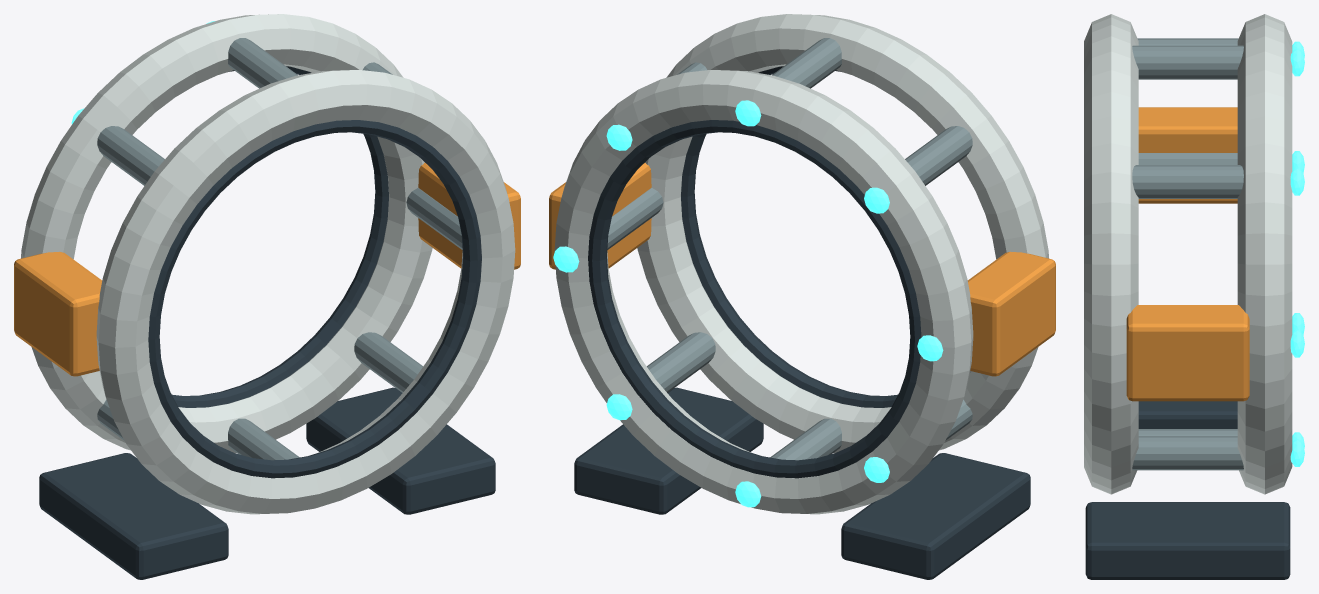
Rendered from docking_collar.glb.
The picture shows the model from 3 angles, left to right: view 1: azimuth 30°, elevation 25°; view 2: azimuth 150°, elevation 25°; view 3: azimuth 270°, elevation 25°; orthographic projection.
Parts seen in each view (by area): view 1: docking_collar_mesh; view 2: docking_collar_mesh; view 3: docking_collar_mesh.
Part boxes in pixels (<box>): docking_collar_mesh: <box>14,14,520,579</box>; docking_collar_mesh: <box>549,14,1055,579</box>; docking_collar_mesh: <box>1084,14,1304,579</box>.
Bounding box in the file's own units: 3.07 × 2.96 × 1.3.
